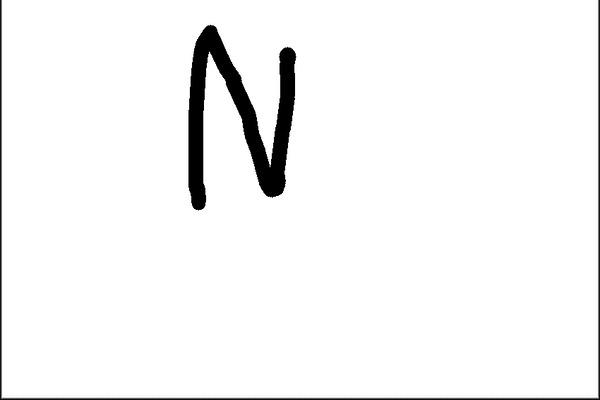N: (176, 19, 302, 215)
